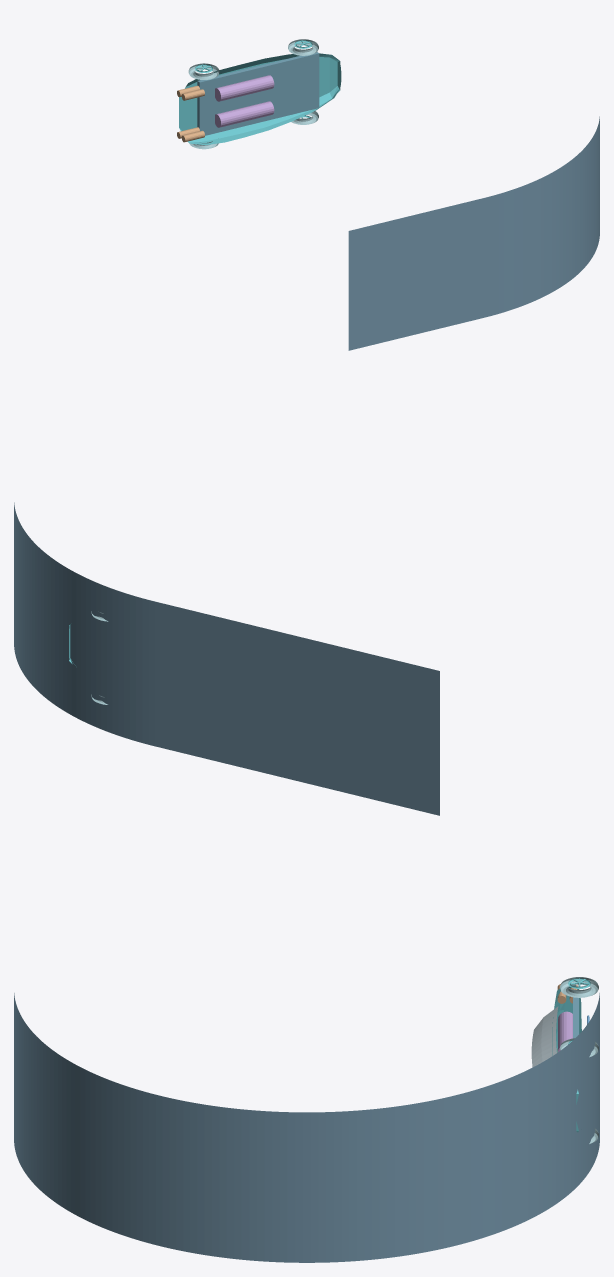
File: vehicle_with_idealized_ramp.glb
The picture shows the model from 3 angles, top to bottom: view 1: azimuth 30°, elevation 25°; view 2: azimuth 150°, elevation 25°; view 3: azimuth 270°, elevation 25°; orthographic projection. The views are drawn at different scales.
Parts seen in each view (by area): view 1: curved_ramp_surface, roadster_chassis, roadster_body, roadster_pressure_tanks, roadster_tires, roadster_thruster_tubes; view 2: curved_ramp_surface; view 3: curved_ramp_surface, roadster_canopy, roadster_tires.
Boxes of the visible parts, bbox=[...] form: curved_ramp_surface: bbox=[348, 116, 599, 350]; roadster_chassis: bbox=[197, 52, 319, 135]; roadster_body: bbox=[179, 53, 341, 145]; roadster_pressure_tanks: bbox=[215, 75, 274, 127]; roadster_tires: bbox=[188, 39, 318, 149]; roadster_thruster_tubes: bbox=[177, 85, 204, 142]; curved_ramp_surface: bbox=[14, 502, 439, 815]; curved_ramp_surface: bbox=[14, 993, 599, 1262]; roadster_canopy: bbox=[531, 1006, 558, 1067]; roadster_tires: bbox=[560, 977, 598, 1143].
Size of the model in its own units: 13 by 3.4 by 12.
